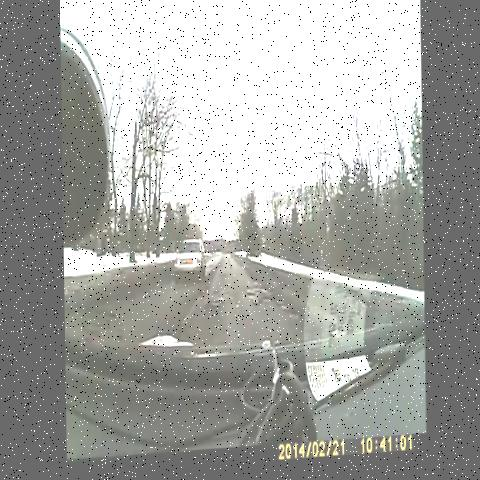pothole: (203, 271, 236, 333), (241, 276, 272, 319), (220, 262, 237, 280)
